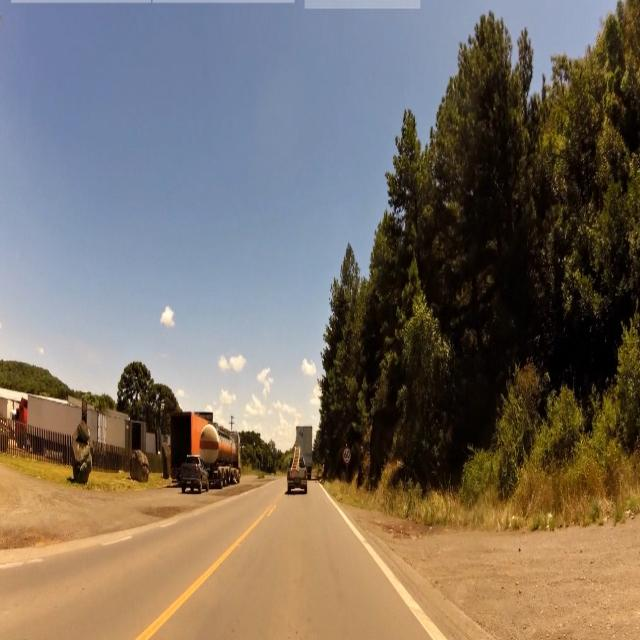R-19: (344, 446, 351, 464)
